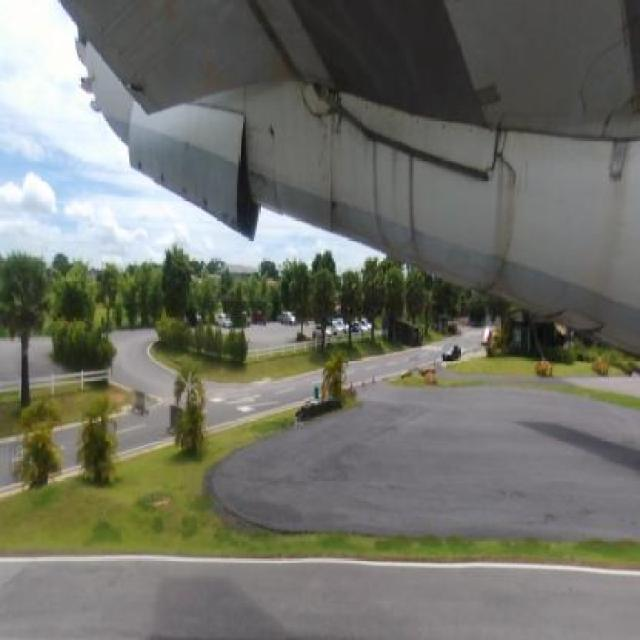Rust: (358, 122, 429, 267), (301, 75, 348, 232), (481, 137, 521, 298), (187, 46, 231, 106), (241, 155, 284, 214), (130, 0, 193, 32), (263, 40, 302, 88), (222, 208, 246, 254), (266, 116, 286, 159), (197, 187, 217, 222), (154, 160, 172, 194), (131, 146, 147, 179), (178, 174, 192, 208)
Scartch: (592, 132, 632, 313), (312, 108, 332, 192), (123, 74, 152, 114)
